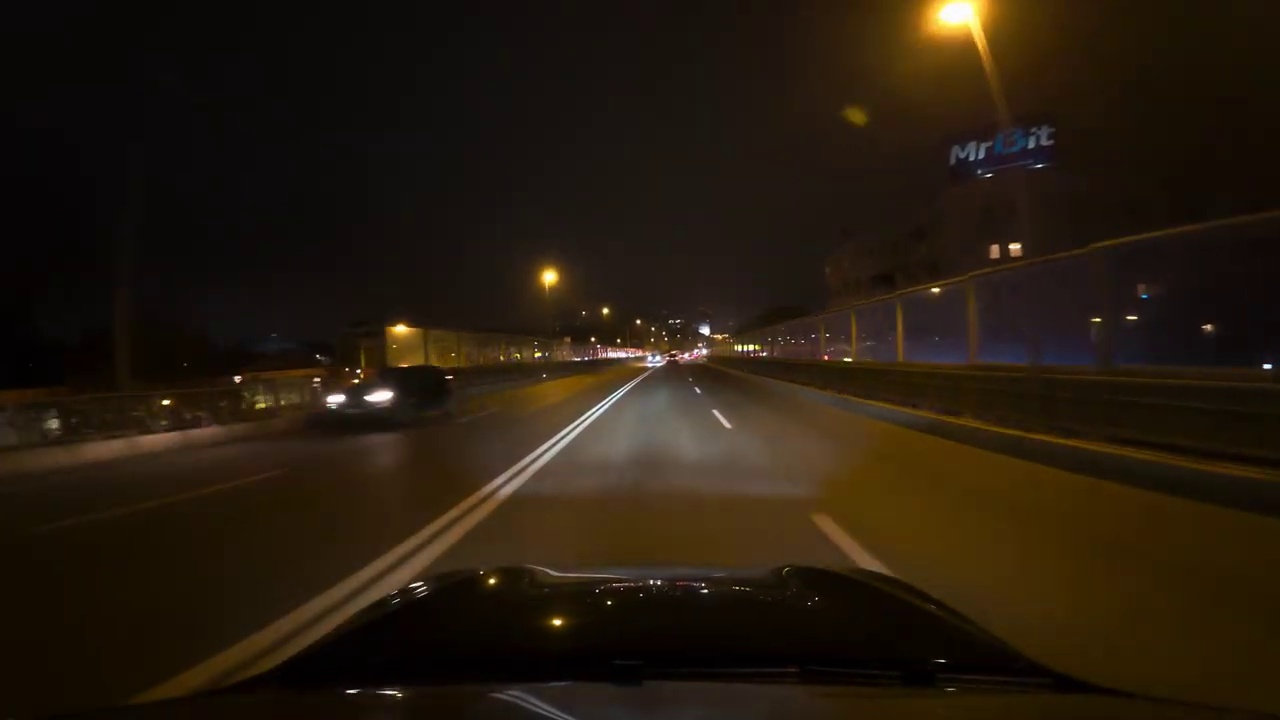acesa: (925, 0, 987, 39), (536, 264, 563, 291)
